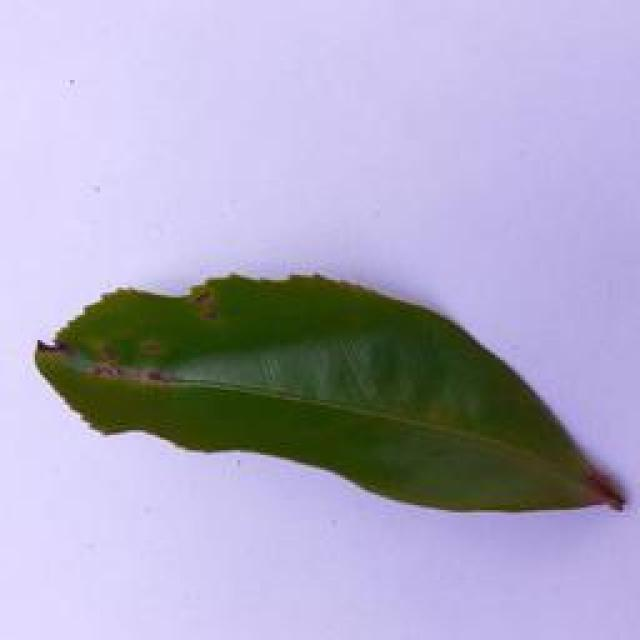Helopeltis: (31, 254, 640, 526)
